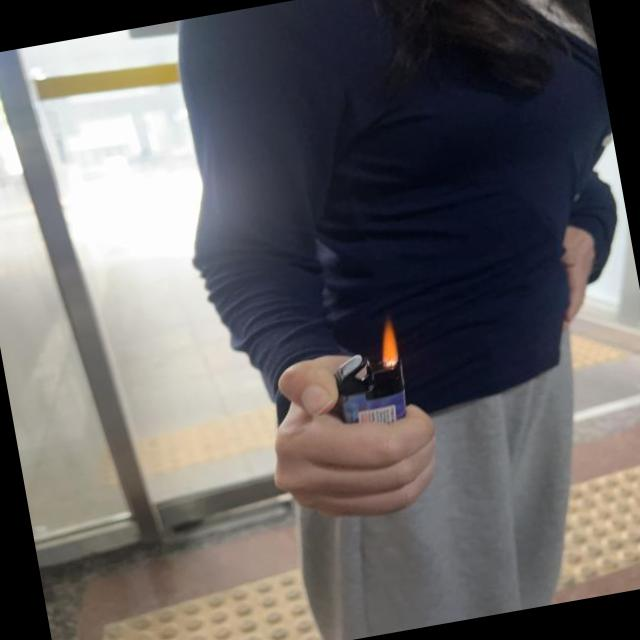Fire: (374, 318, 402, 370)
